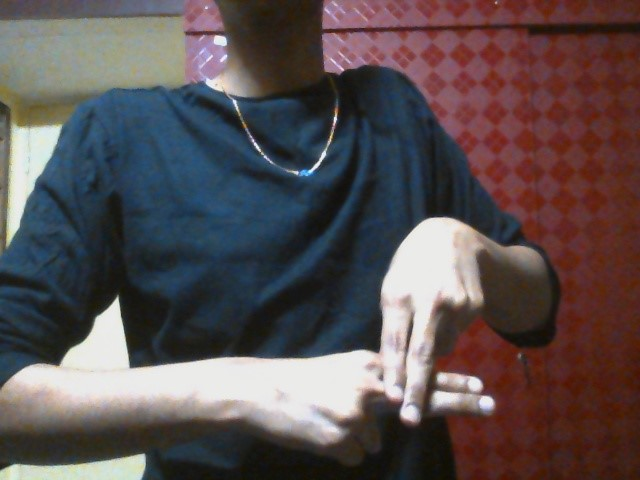F: (294, 228, 498, 480)
